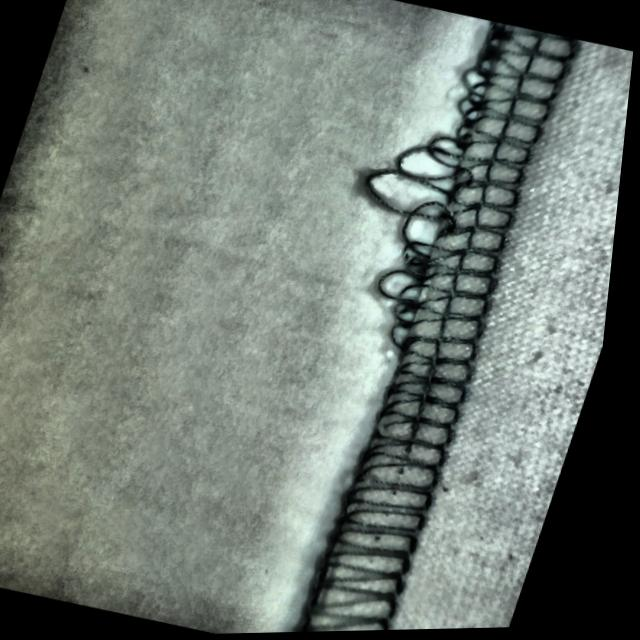Stitch: (314, 51, 574, 371)
